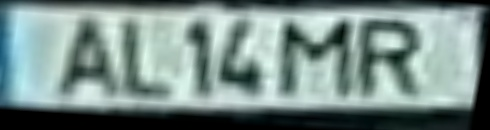1: (179, 18, 217, 103)
4: (217, 15, 270, 104)
A: (51, 15, 123, 101)
L: (119, 20, 178, 102)
M: (275, 15, 361, 108)
R: (359, 17, 430, 106)
